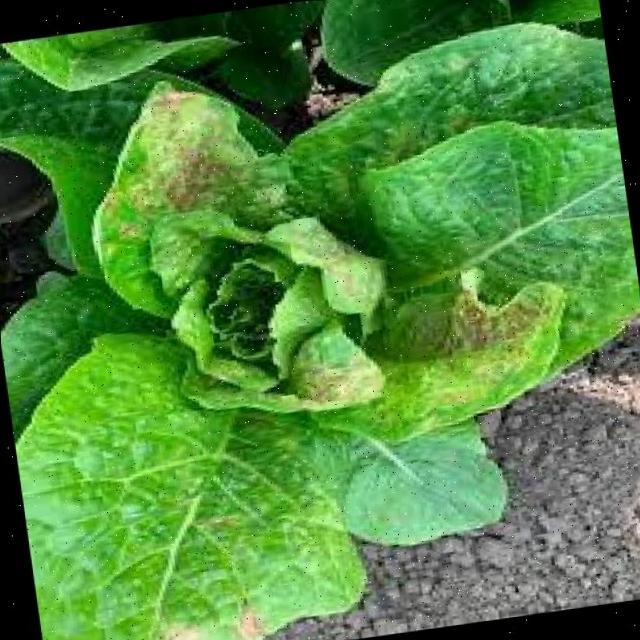Powdery_Mildew: (70, 46, 550, 460)
